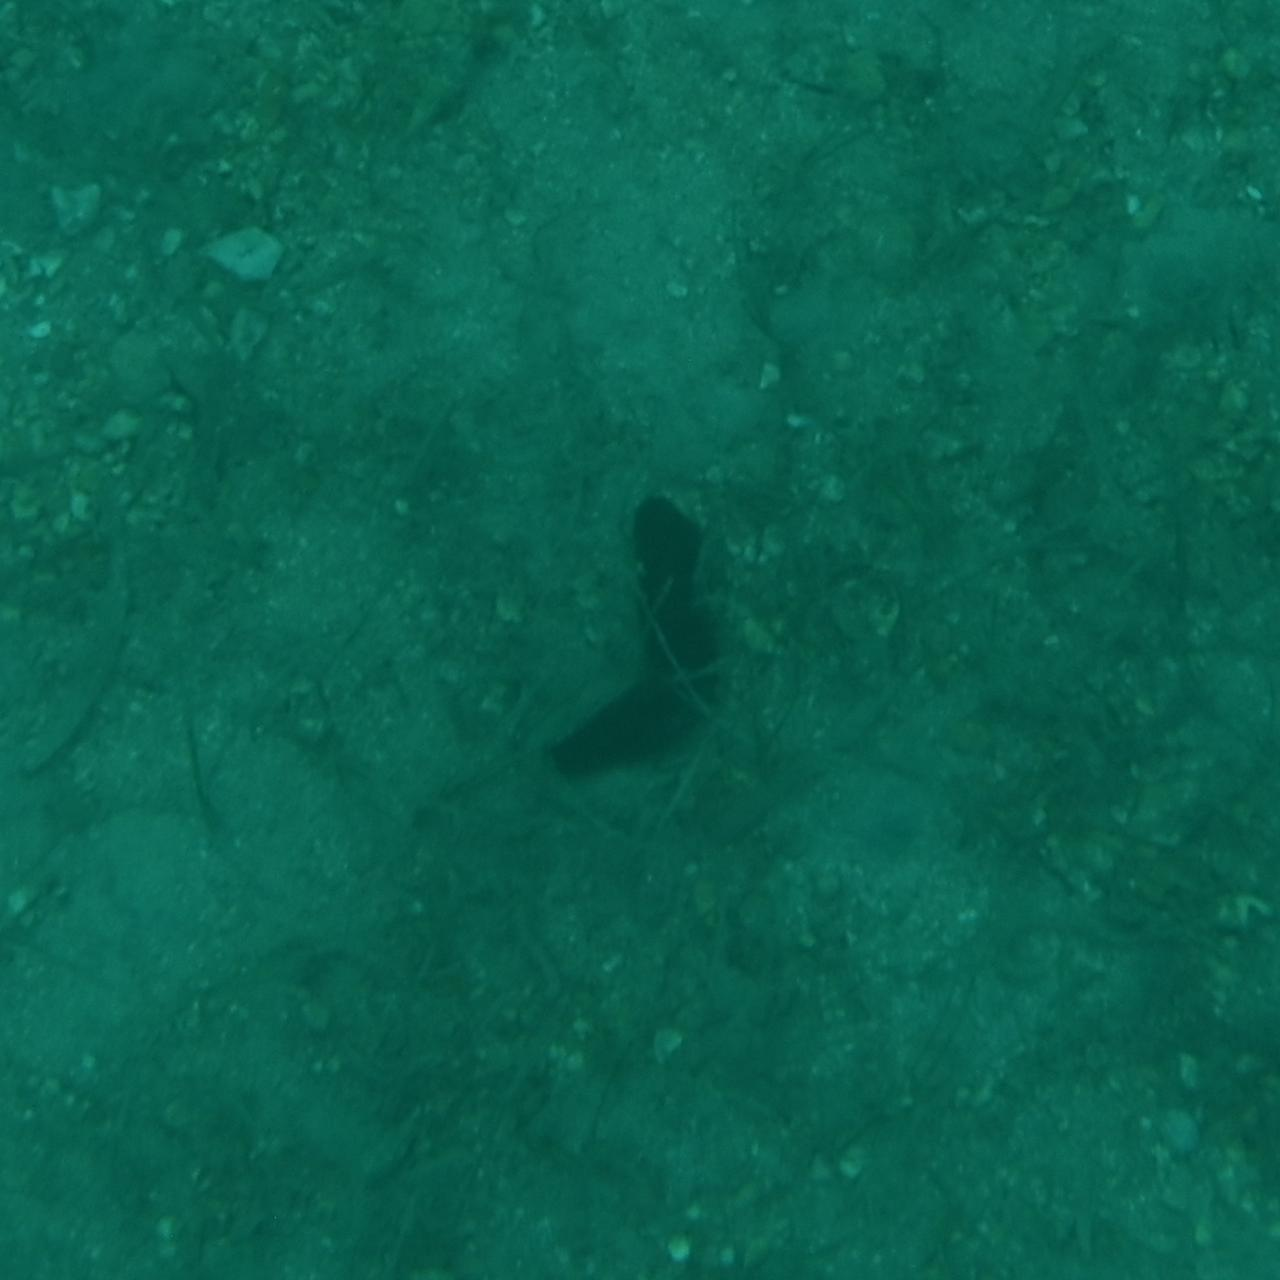Holothuria tubulosa: (541, 488, 739, 792)
